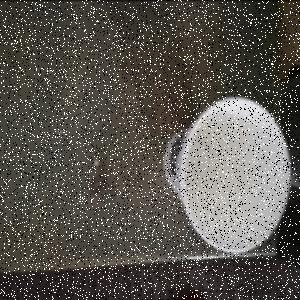Cup: (163, 95, 294, 254)
